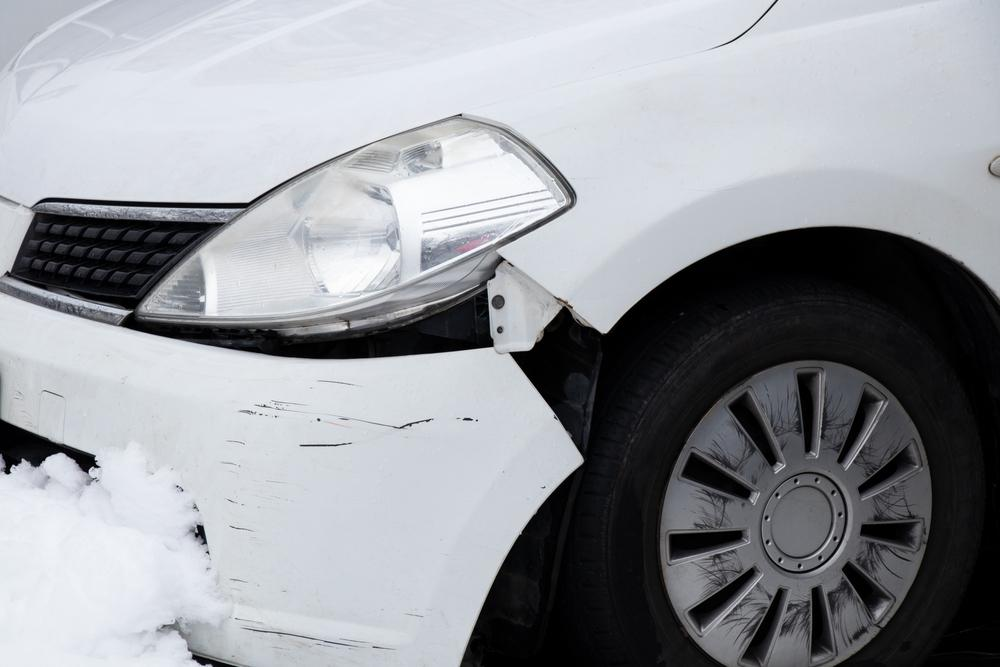scratch: (211, 375, 490, 667)
